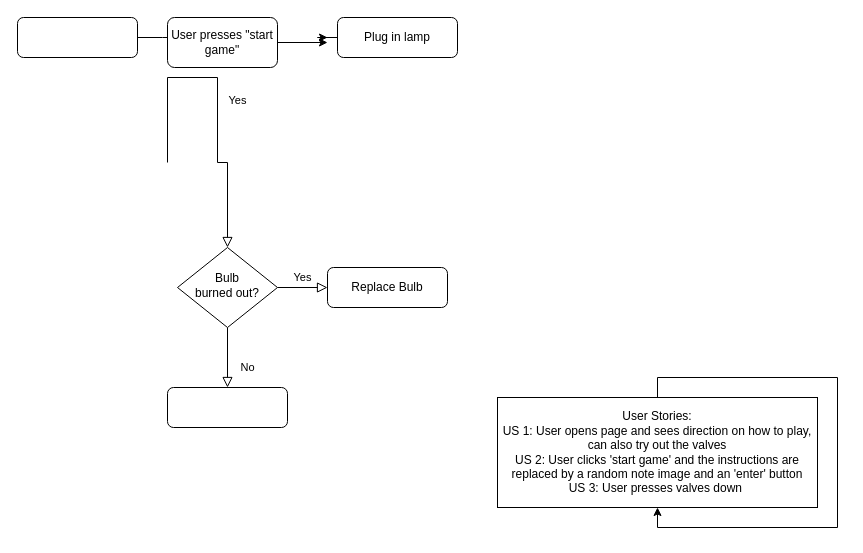
Image size: 863x553. Some labels were removed from this diagram. Each missing label, with the centre of its shape:
"Repair Lamp" belongs at point 227,407.
"User loads app" belongs at point 77,37.
